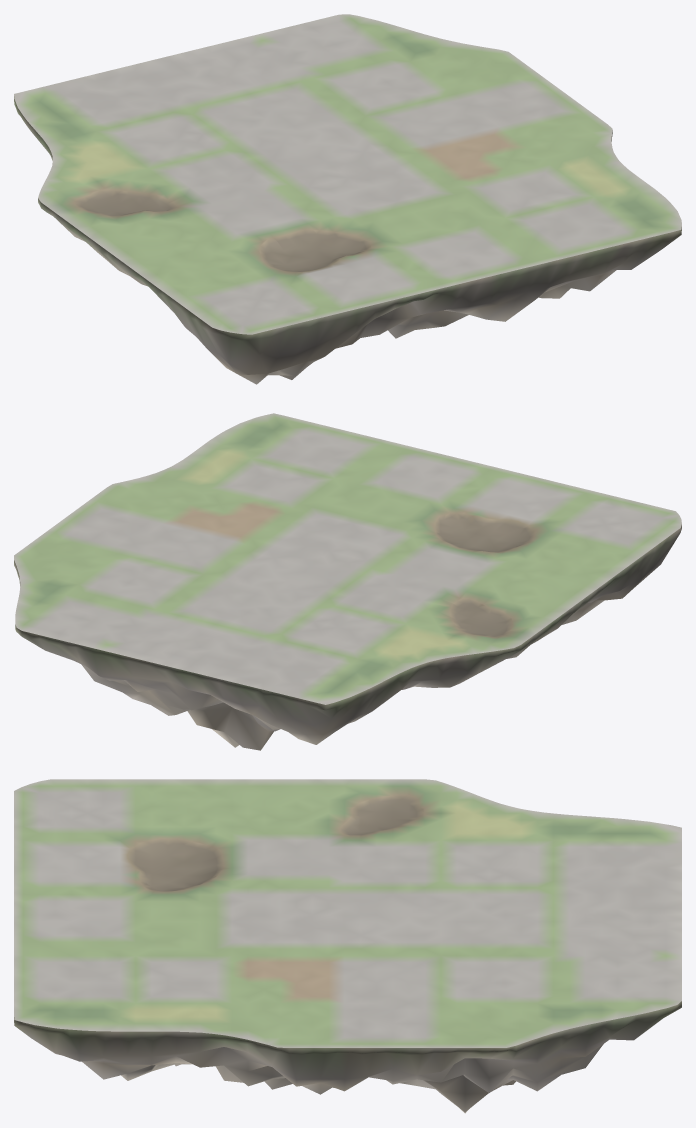
File: SKY-072.rock.glb
3 renders of one model, top to bottom at view 1: azimuth 30°, elevation 25°; view 2: azimuth 150°, elevation 25°; view 3: azimuth 270°, elevation 25°, orthographic. The views are drawn at different scales.
Parts seen in each view (by area): view 1: deck-col, rock; view 2: deck-col, rock; view 3: deck-col, rock.
Part boxes in pixels (x1=…): deck-col: x1=14, y1=14, x2=681, y2=334; rock: x1=14, y1=96, x2=681, y2=384; deck-col: x1=14, y1=413, x2=681, y2=704; rock: x1=14, y1=524, x2=681, y2=750; deck-col: x1=14, y1=779, x2=681, y2=1047; rock: x1=14, y1=1001, x2=681, y2=1113.
Size of the model in its own units: 158 by 49.9 by 166.
